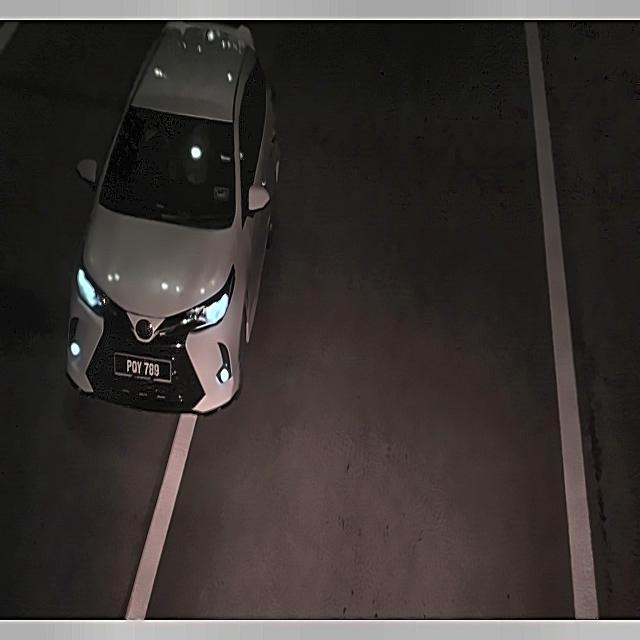car: (110, 350, 176, 388)
